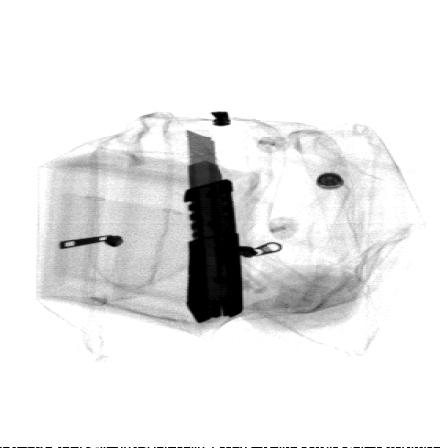Knife: (181, 128, 245, 326)
